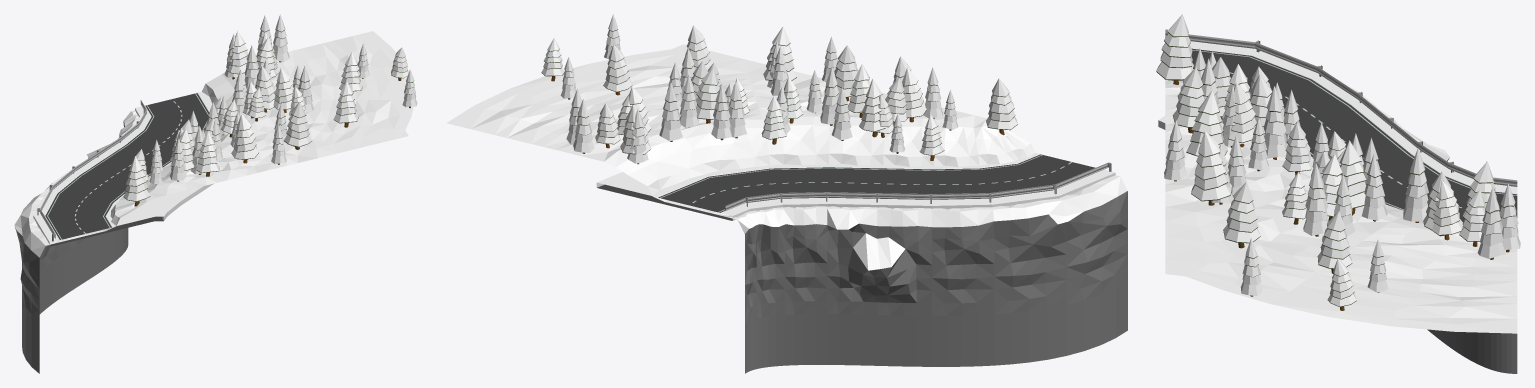
Rendered from SnowRoadStraight5.fbx.
3 renders of one model, left to right at view 1: azimuth 30°, elevation 25°; view 2: azimuth 150°, elevation 25°; view 3: azimuth 270°, elevation 25°, orthographic. The views are drawn at different scales.
Visible parts, largest first — view 1: SRS5Plane, SRS5Road, SRS5Plane|pineTree04|Dupli|15, SRS5Plane|pineTree04|Dupli|19, SRS5Guardrail, SRS5Plane|pineTree04|Dupli|47, SRS5Plane|pineTree04|Dupli|33, SRS5Plane|pineTree04|Dupli|3, SRS5Plane|pineTree04|Dupli|31, SRS5Plane|pineTree04|Dupli|37, SRS5Plane|pineTree04|Dupli|25, SRS5Plane|pineTree04|Dupli|43 (+12 smaller); view 2: SRS5Plane, SRS5Road, SRS5Guardrail, SRS5Plane|pineTree04|Dupli|47, SRS5Plane|pineTree04|Dupli|25, SRS5Plane|pineTree04|Dupli|43, SRS5Plane|pineTree05|Dupli|38, SRS5Plane|pineTree04|Dupli|11, SRS5Plane|pineTree04|Dupli|15, SRS5Plane|pineTree04|Dupli|5, SRS5Plane|pineTree05|Dupli|26, SRS5Plane|pineTree05|Dupli|42 (+15 smaller); view 3: SRS5Plane, SRS5Road, SRS5Guardrail, SRS5Plane|pineTree04|Dupli|19, SRS5Plane|pineTree04|Dupli|47, SRS5Plane|pineTree04|Dupli|33, SRS5Plane|pineTree04|Dupli|15, SRS5Plane|pineTree04|Dupli|43, SRS5Plane|pineTree05|Dupli|38, SRS5Plane|pineTree04|Dupli|3, SRS5Plane|pineTree05|Dupli|32, SRS5Plane|pineTree05|Dupli|40 (+28 smaller).
Part boxes in pixels (x1,y1,x2,y2): SRS5Plane: (14,31,413,373); SRS5Road: (33,91,213,246); SRS5Plane|pineTree04|Dupli|15: (231,114,258,163); SRS5Plane|pineTree04|Dupli|19: (284,102,312,149); SRS5Guardrail: (37,100,147,241); SRS5Plane|pineTree04|Dupli|47: (123,156,150,206); SRS5Plane|pineTree04|Dupli|33: (333,81,358,127); SRS5Plane|pineTree04|Dupli|3: (195,131,219,176); SRS5Plane|pineTree04|Dupli|31: (273,68,293,112); SRS5Plane|pineTree04|Dupli|37: (226,31,248,74); SRS5Plane|pineTree04|Dupli|25: (255,66,275,112); SRS5Plane|pineTree04|Dupli|43: (339,52,362,93); SRS5Plane: (446,44,1127,373); SRS5Road: (596,153,1115,220); SRS5Guardrail: (725,162,1111,210); SRS5Plane|pineTree04|Dupli|47: (986,78,1017,135); SRS5Plane|pineTree04|Dupli|25: (696,67,719,123); SRS5Plane|pineTree04|Dupli|43: (603,44,632,95); SRS5Plane|pineTree05|Dupli|38: (659,82,682,141); SRS5Plane|pineTree04|Dupli|11: (859,79,885,137); SRS5Plane|pineTree04|Dupli|15: (834,45,858,101); SRS5Plane|pineTree04|Dupli|5: (902,67,926,122); SRS5Plane|pineTree05|Dupli|26: (711,84,731,140); SRS5Plane|pineTree05|Dupli|42: (573,99,594,153); SRS5Plane: (1165,80,1517,373); SRS5Road: (1158,41,1517,222); SRS5Guardrail: (1165,29,1517,186); SRS5Plane|pineTree04|Dupli|19: (1191,131,1231,205); SRS5Plane|pineTree04|Dupli|47: (1156,14,1193,84); SRS5Plane|pineTree04|Dupli|33: (1223,182,1260,248); SRS5Plane|pineTree04|Dupli|15: (1186,90,1227,156); SRS5Plane|pineTree04|Dupli|43: (1317,211,1352,273); SRS5Plane|pineTree05|Dupli|38: (1403,148,1428,222); SRS5Plane|pineTree04|Dupli|3: (1173,67,1204,133); SRS5Plane|pineTree05|Dupli|32: (1303,163,1328,236); SRS5Plane|pineTree05|Dupli|40: (1477,187,1505,259).
Size of what is drawn, in the model's own units: 22411 by 9284 by 10357.
